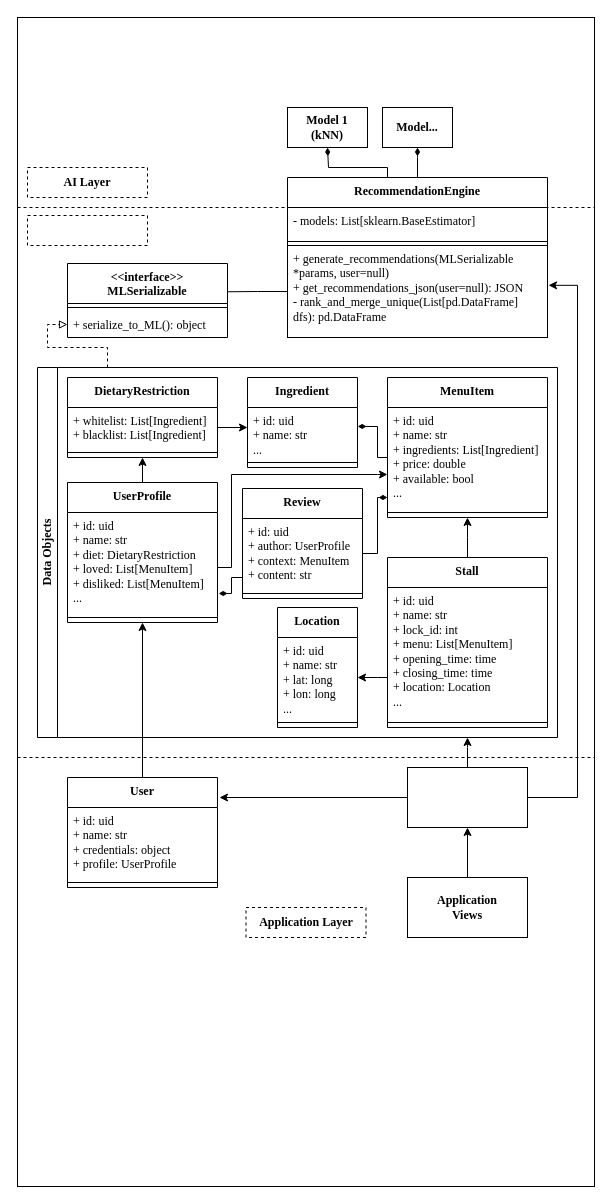
The diagram is 613 pixels wide and 1204 high, and some of its shapes have lost their labels. Each missing label, with the centre of its shape:
"Application Data Controllers" belongs at point 467,797.
"Domain Layer" belongs at point 87,230.
